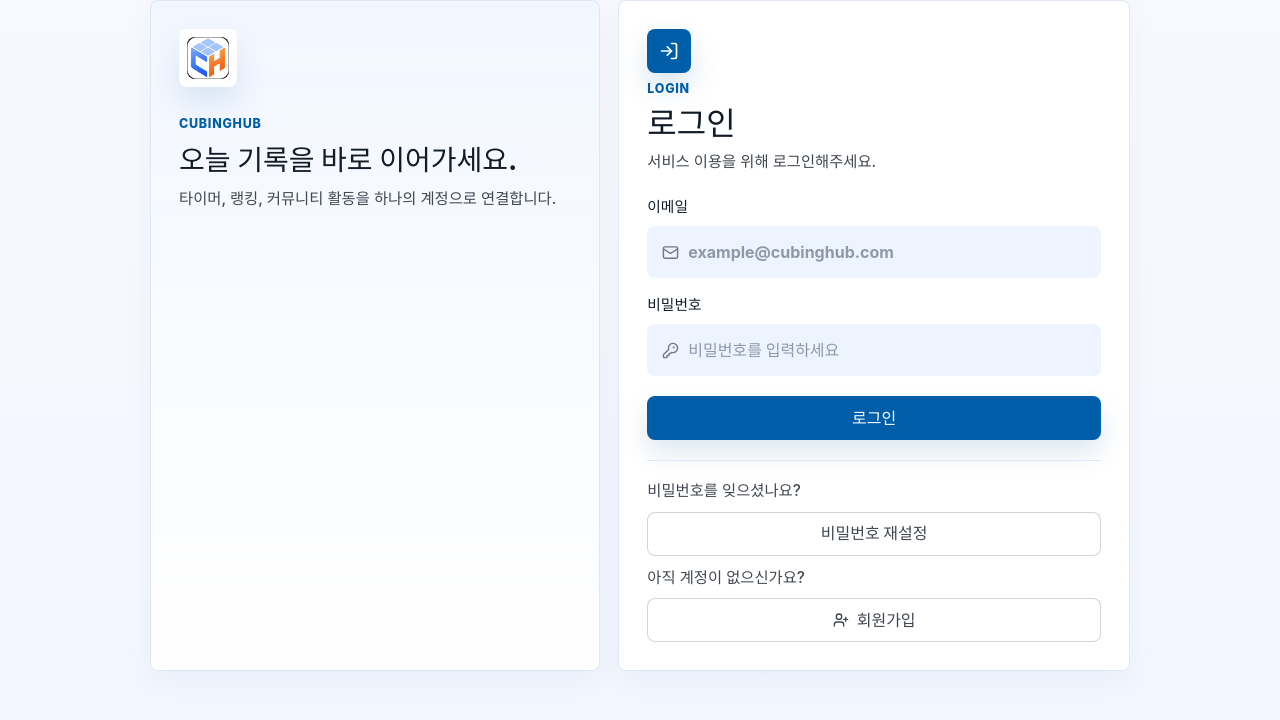
it: LoginPage › should_show_original_error_when_refresh_cookie_cleanup_fails_after_network_error
Type "member@cubinghub.com" into the field labelled "이메일" at (887, 252), box 688,240 -> 1086,264
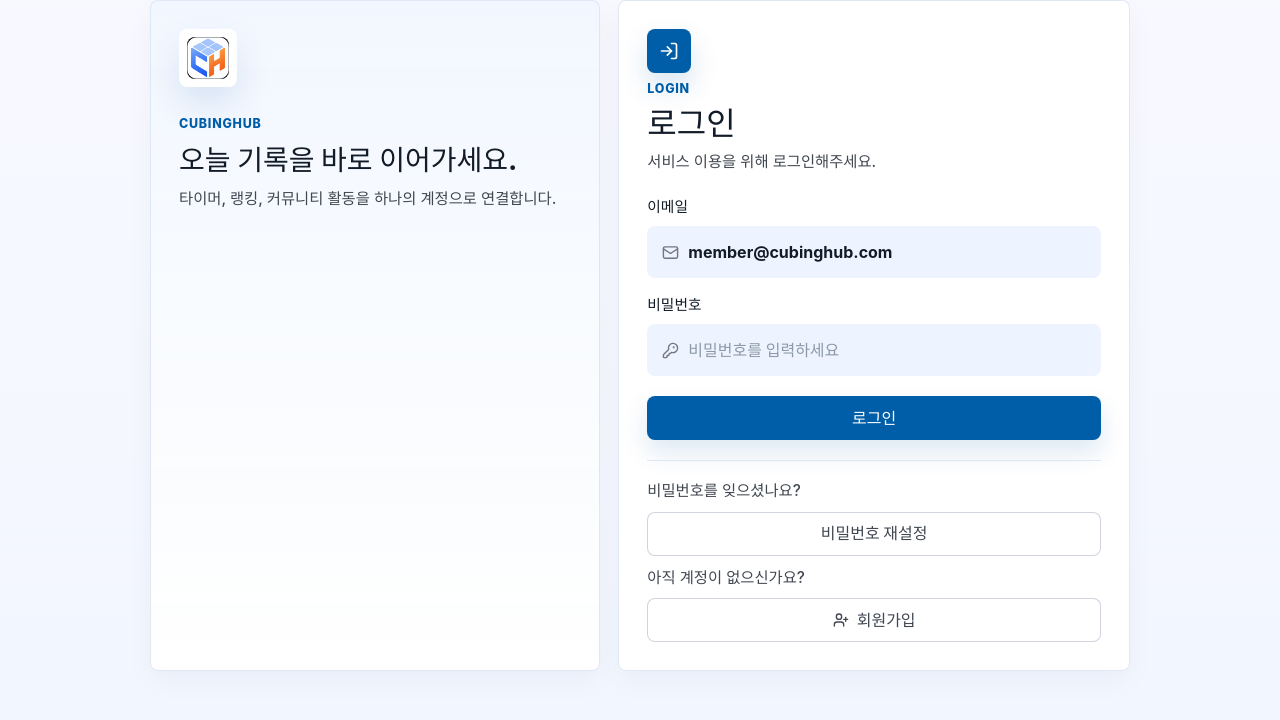
Type "password123!" into the password field labelled "비밀번호" at (887, 350), box 688,338 -> 1086,362
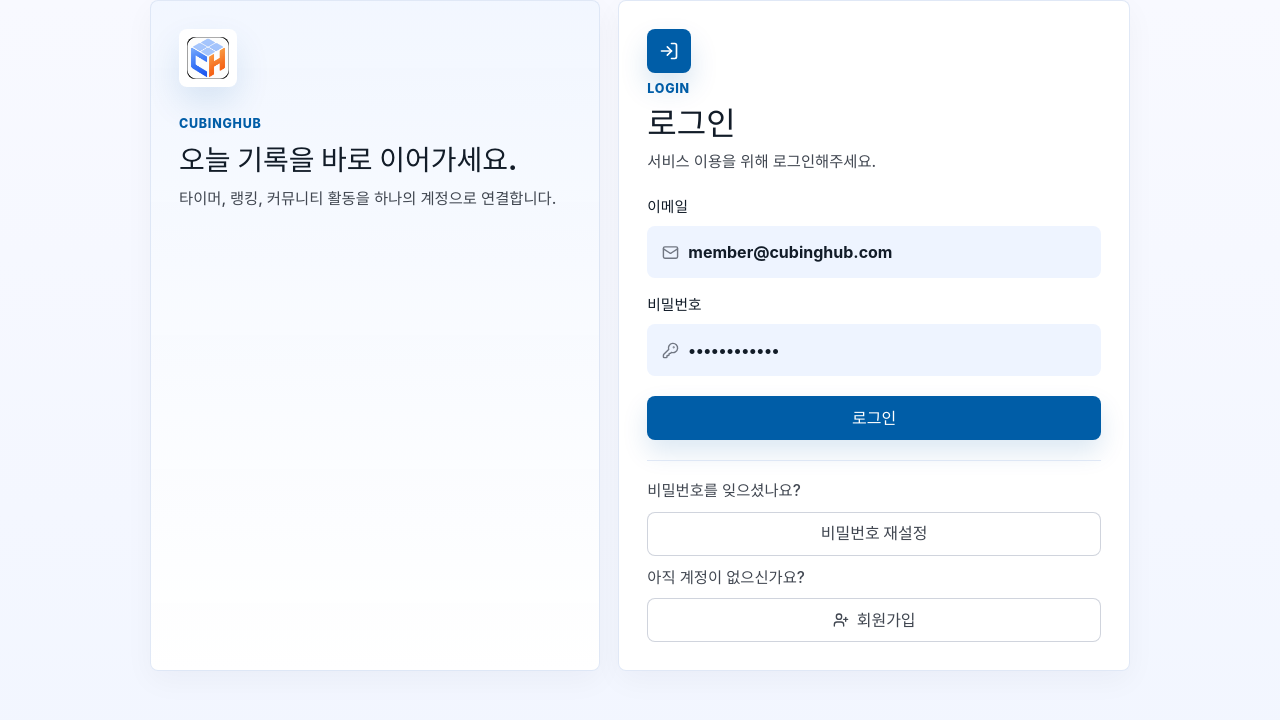
Click the button "로그인" at (874, 418), box 647,396 -> 1101,440
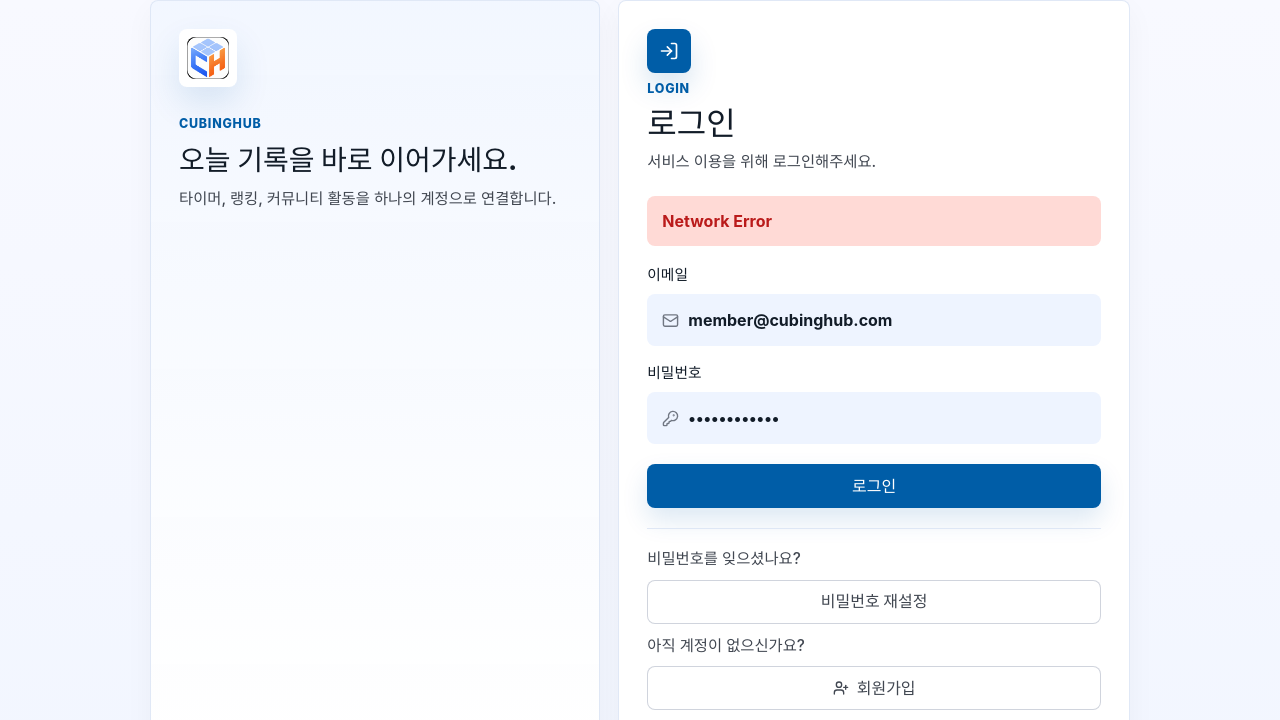
Expected: the text "Network Error" is shown, 647,196 -> 1101,246
